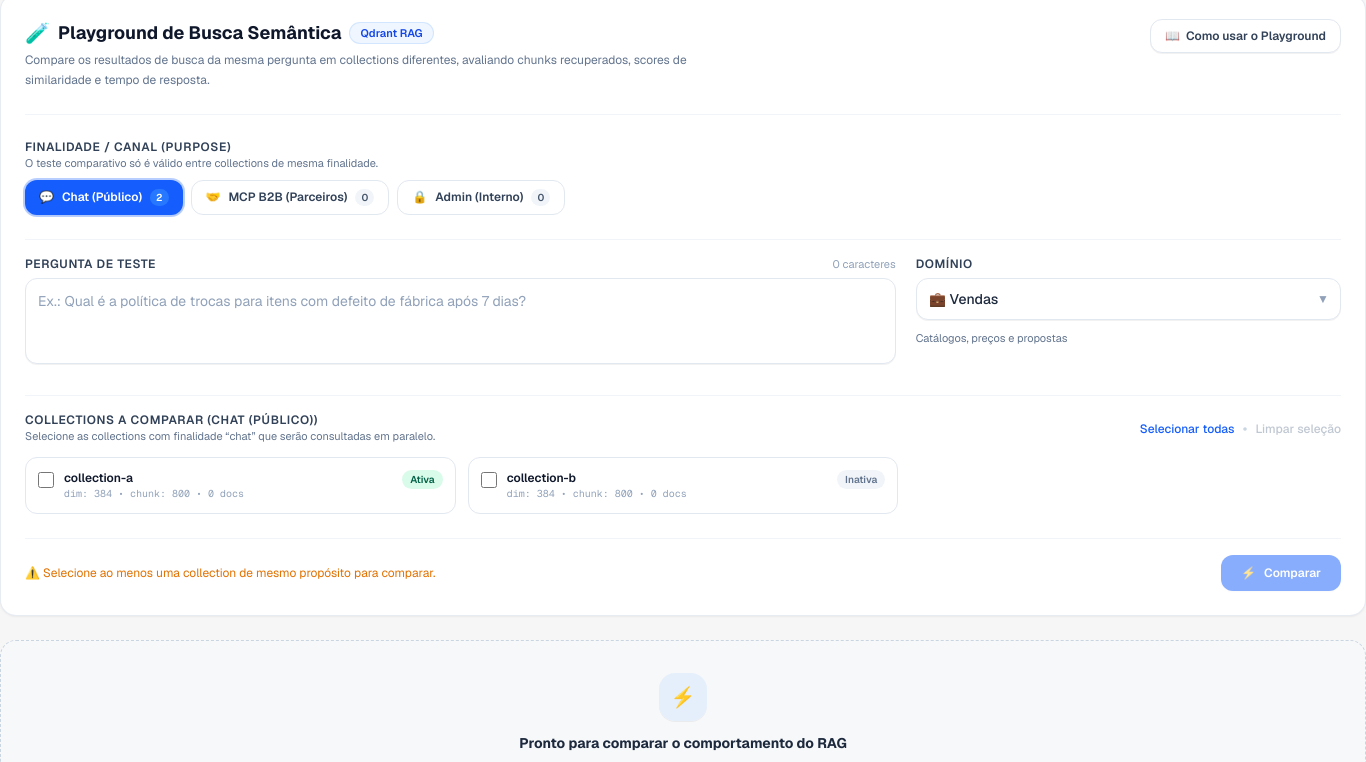
PlaygroundPanel › roda a busca e renderiza um card por collection, com resultado e erro isolados
Type "qual a garantia?" into the text box labelled "Pergunta de teste".
click(460, 321); type("qual a garantia?")  # box x1=25 y1=278 x2=896 y2=364
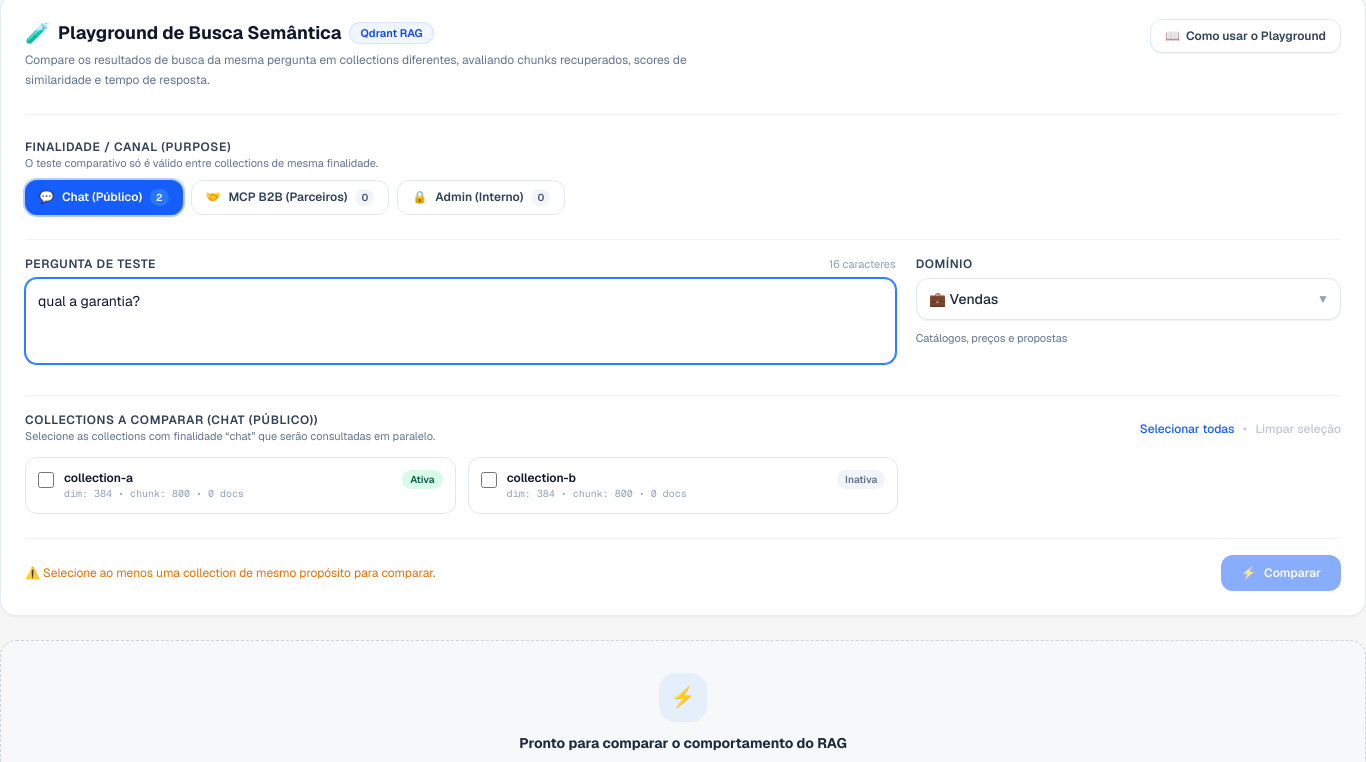
Click the checkbox labelled "collection-a".
click(46, 480)  # box x1=38 y1=472 x2=54 y2=488
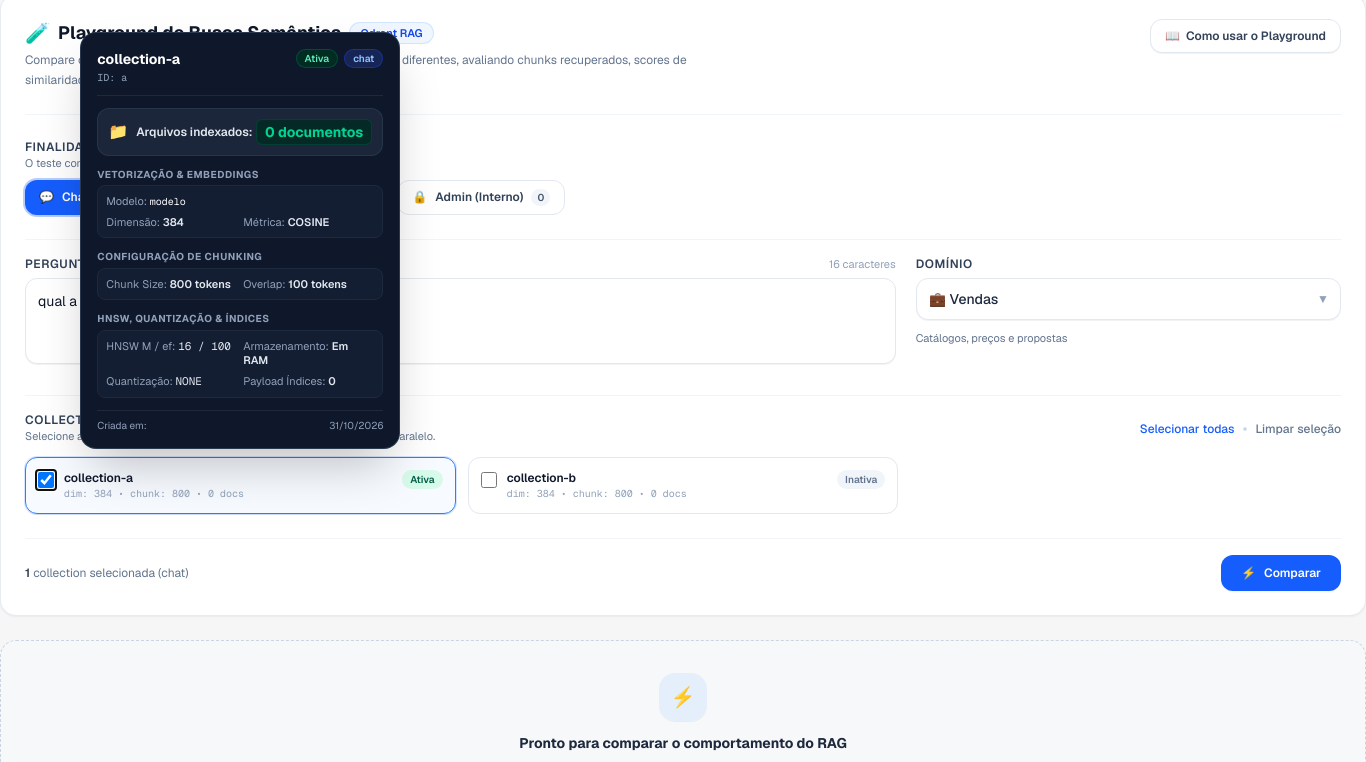
Click the checkbox labelled "collection-b".
click(489, 480)  # box x1=481 y1=472 x2=497 y2=488
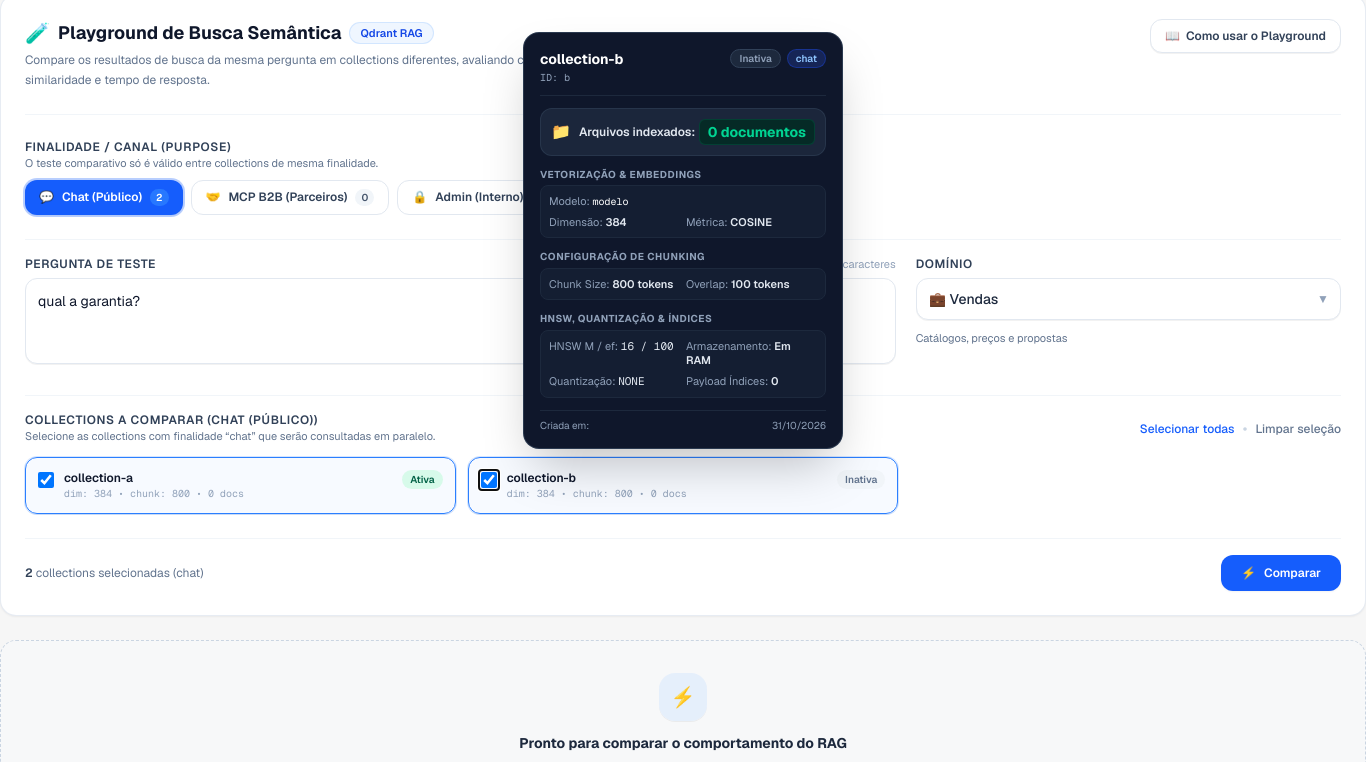
Click the button "⚡ Comparar".
click(1281, 573)  # box x1=1221 y1=555 x2=1341 y2=591
(page scrolled)
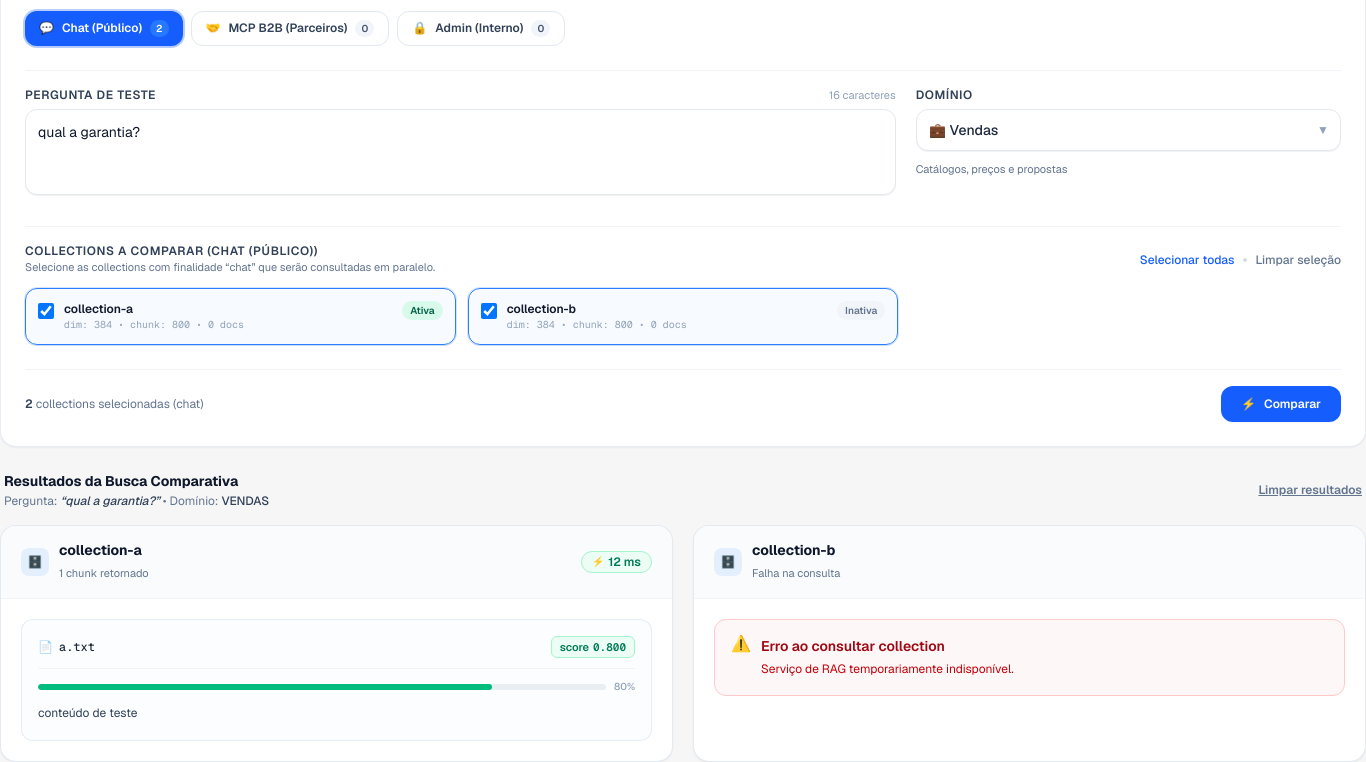
Expected: the text "conteúdo de teste" is shown, x1=38 y1=705 x2=138 y2=721
Expected: the text "Serviço de RAG temporariamente indisponível." is shown, x1=761 y1=660 x2=1014 y2=679
